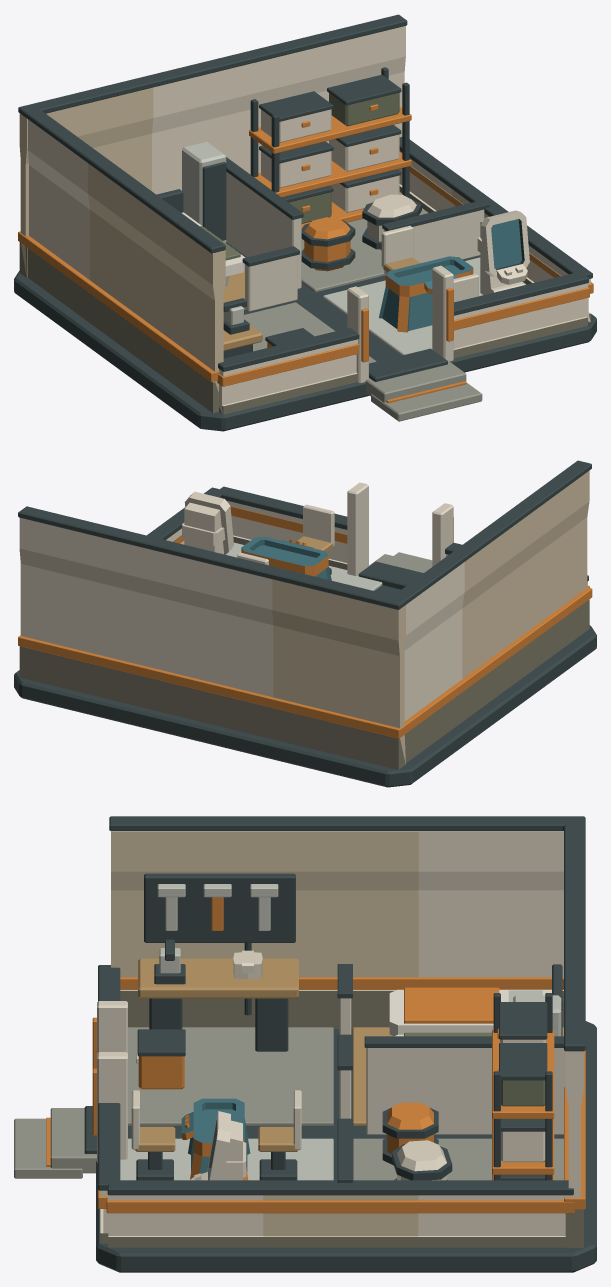
Rendered from habitat_cutaway_01.glb.
3 renders of one model, top to bottom at view 1: azimuth 30°, elevation 25°; view 2: azimuth 150°, elevation 25°; view 3: azimuth 270°, elevation 25°, orthographic. The views are drawn at different scales.
Parts seen in each view (by area): view 1: habitat_cutaway_01; view 2: habitat_cutaway_01; view 3: habitat_cutaway_01.
Boxes of the visible parts, x1,y1,x2,y2 form: habitat_cutaway_01: [14, 14, 596, 431]; habitat_cutaway_01: [14, 460, 596, 787]; habitat_cutaway_01: [14, 816, 596, 1272].
Bounding box in the file's own units: 6.9 × 3.01 × 7.1.
